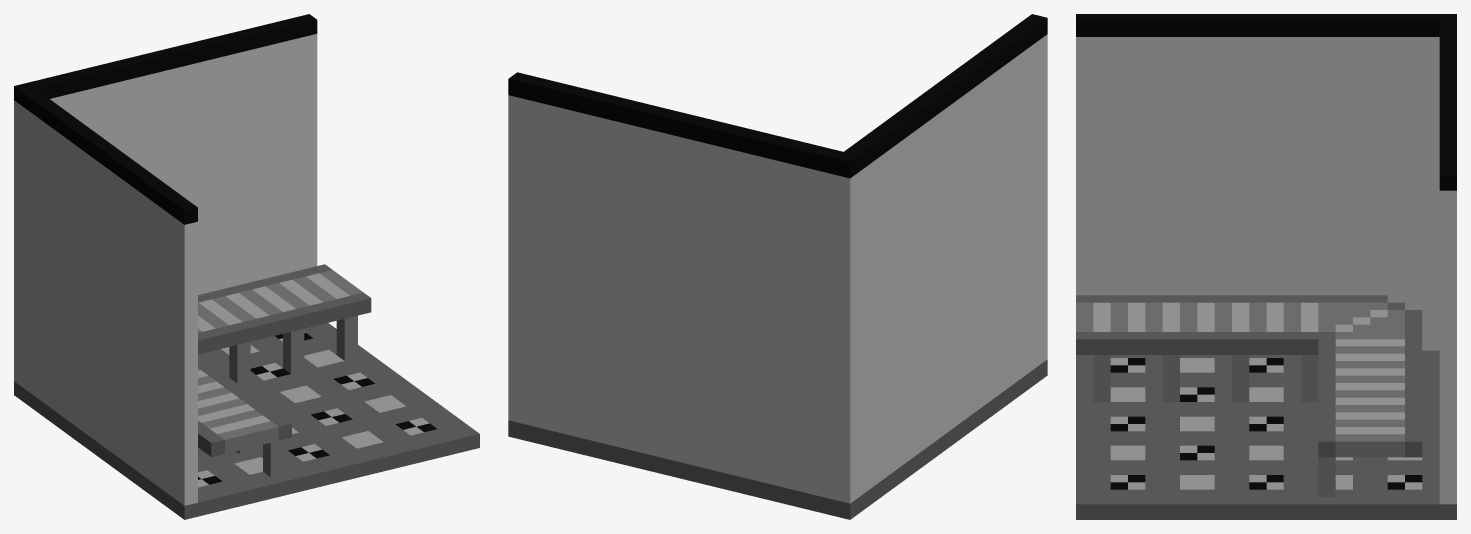
Rendered from level_one-9.obj.
3 views of the same model, side by side, from view 1: azimuth 30°, elevation 25°; view 2: azimuth 150°, elevation 25°; view 3: azimuth 270°, elevation 25° (orthographic). The views are drawn at different scales.
Visible parts, largest first — view 1: level_one-9; view 2: level_one-9; view 3: level_one-9.
Boxes of the visible parts, bbox=[...] form: level_one-9: bbox=[14, 14, 479, 519]; level_one-9: bbox=[508, 14, 1047, 519]; level_one-9: bbox=[1076, 14, 1456, 519].
Bounding box in the file's own units: 22 × 22 × 22.
Materials: 1 (1 with a texture image).
